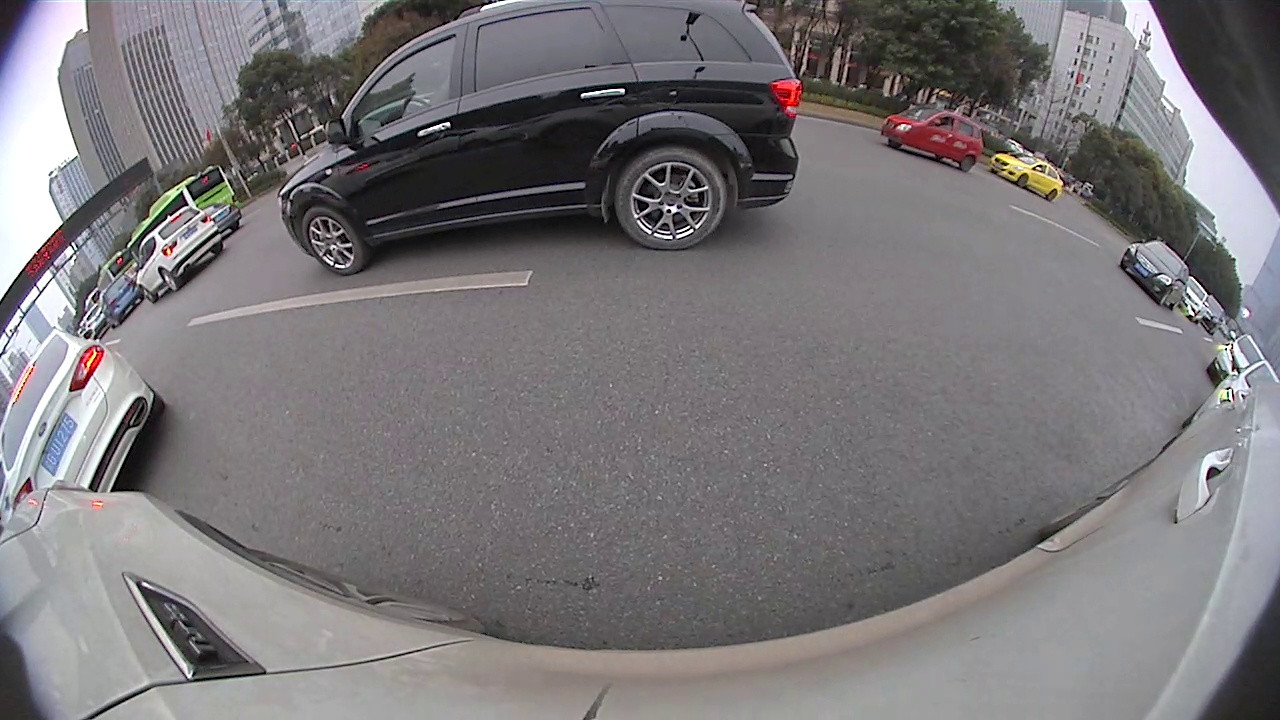car: (276, 1, 804, 279), (4, 326, 165, 501), (129, 201, 224, 306), (881, 104, 987, 174), (1119, 235, 1193, 310), (992, 149, 1069, 204)
front: (300, 206, 365, 275)
rear: (613, 142, 732, 248), (161, 271, 181, 293), (959, 155, 974, 172)
